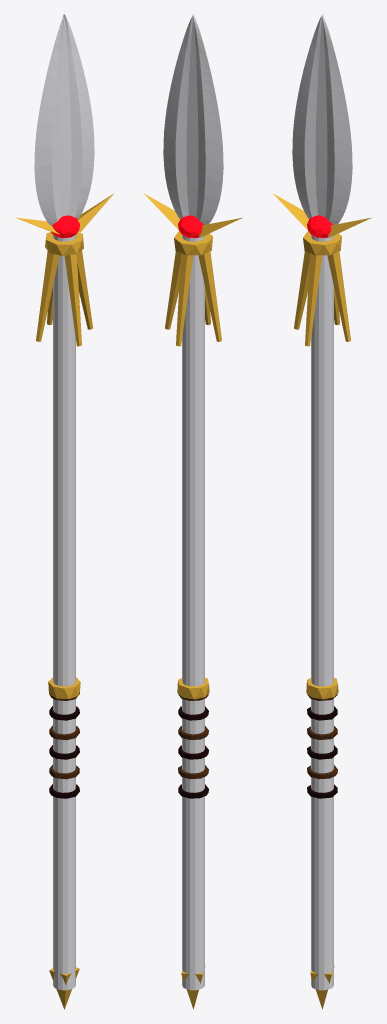
The model's file is spear_3.glb.
3 renders of one model, left to right at view 1: azimuth 30°, elevation 25°; view 2: azimuth 150°, elevation 25°; view 3: azimuth 330°, elevation 25°, orthographic.
Visible parts, largest first — view 1: part_01, part_11, part_15, part_16, part_09, part_14, part_18, part_10, part_13, part_08; view 2: part_01, part_11, part_17, part_16, part_09, part_14, part_10, part_18, part_13, part_12; view 3: part_01, part_11, part_15, part_14, part_09, part_16, part_10, part_18, part_12, part_13.
Part boxes in pixels (x1,y1,x2,y2): part_01: (53,234,75,990); part_11: (34,14,94,225); part_15: (64,254,81,346); part_16: (36,251,59,341); part_09: (45,232,83,255); part_14: (77,250,92,329); part_18: (51,215,79,238); part_10: (48,677,80,698); part_13: (77,193,114,232); part_08: (49,967,79,1009); part_01: (182,235,204,990); part_11: (163,14,223,224); part_17: (176,252,193,346); part_16: (198,250,221,341); part_09: (174,231,212,255); part_14: (165,251,180,329); part_10: (177,677,209,699); part_18: (178,215,204,238); part_13: (143,193,180,229); part_12: (199,217,242,237); part_01: (311,235,333,990); part_11: (292,14,352,224); part_15: (305,252,322,346); part_14: (327,250,350,341); part_09: (303,231,341,255); part_16: (294,251,309,329); part_10: (306,677,338,699); part_18: (307,215,333,238); part_12: (272,193,308,229); part_13: (328,217,371,237).
Size of the model in its own units: 0.1937 by 1.84 by 0.1085.
